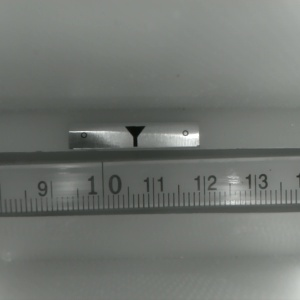0: (108, 174, 121, 194)
1: (87, 175, 97, 194), (194, 175, 201, 191), (142, 177, 149, 193), (245, 174, 251, 189), (154, 177, 160, 192), (295, 172, 300, 189)
2: (207, 176, 216, 191)
3: (257, 174, 267, 189)
9: (37, 180, 47, 197)
finger: (123, 126, 145, 147)
